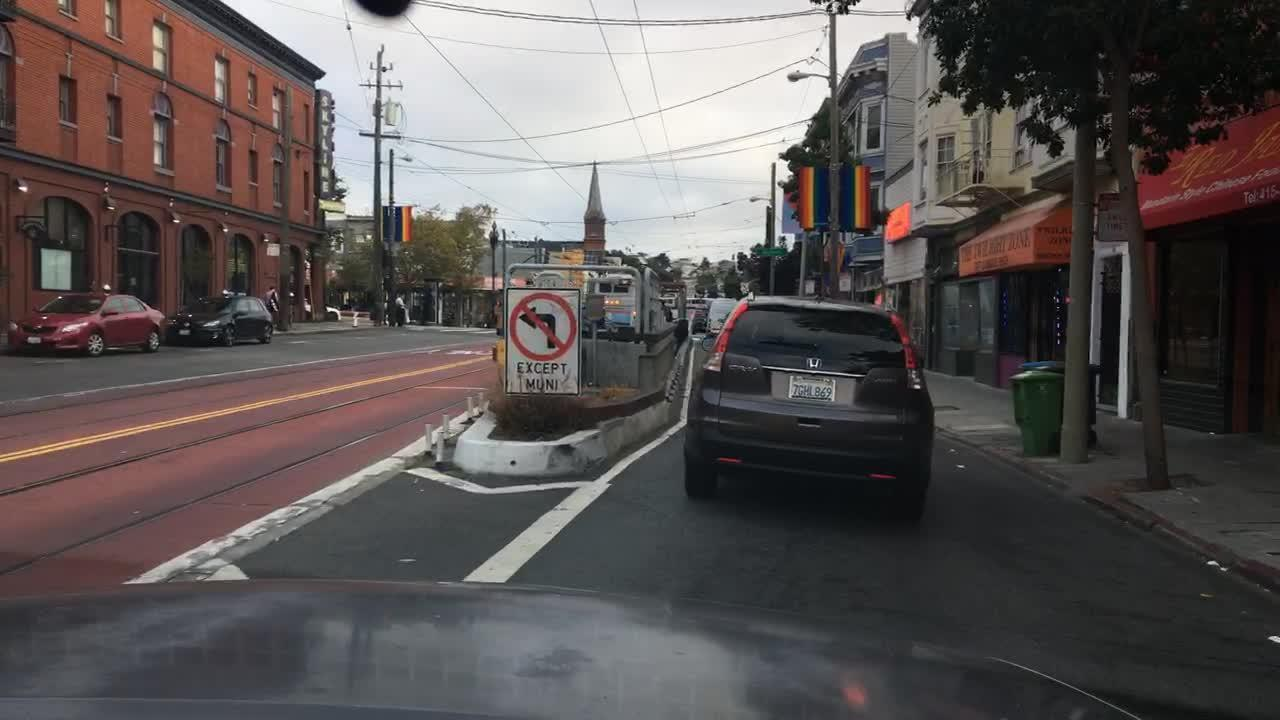Honda: (799, 352, 833, 375)
